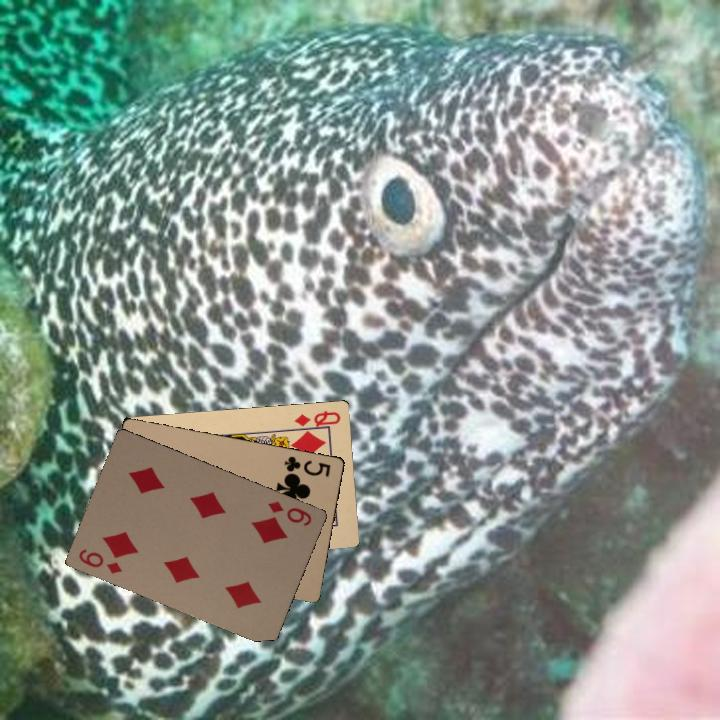5c: (280, 452, 333, 479)
6d: (264, 497, 314, 529), (74, 545, 125, 576)
Qd: (288, 406, 343, 432)
